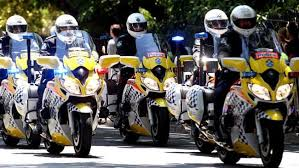helmet: (123, 11, 151, 42), (230, 5, 257, 37), (204, 8, 230, 41), (54, 14, 79, 45), (5, 14, 28, 42)
